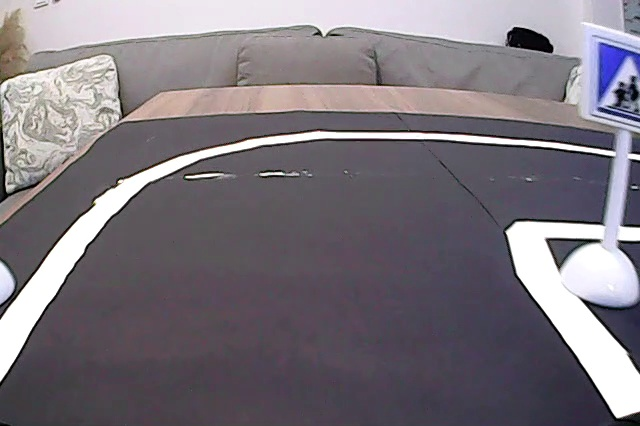school crossing: (587, 32, 640, 128)
